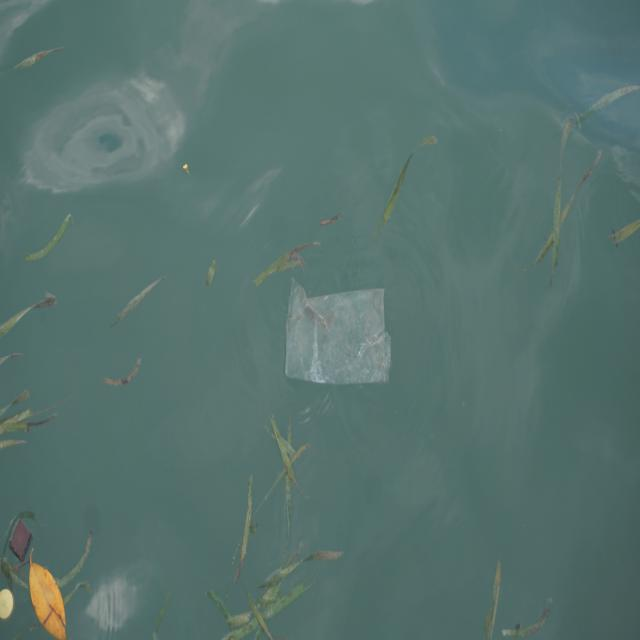Kantong Plastik: (283, 275, 394, 394)
